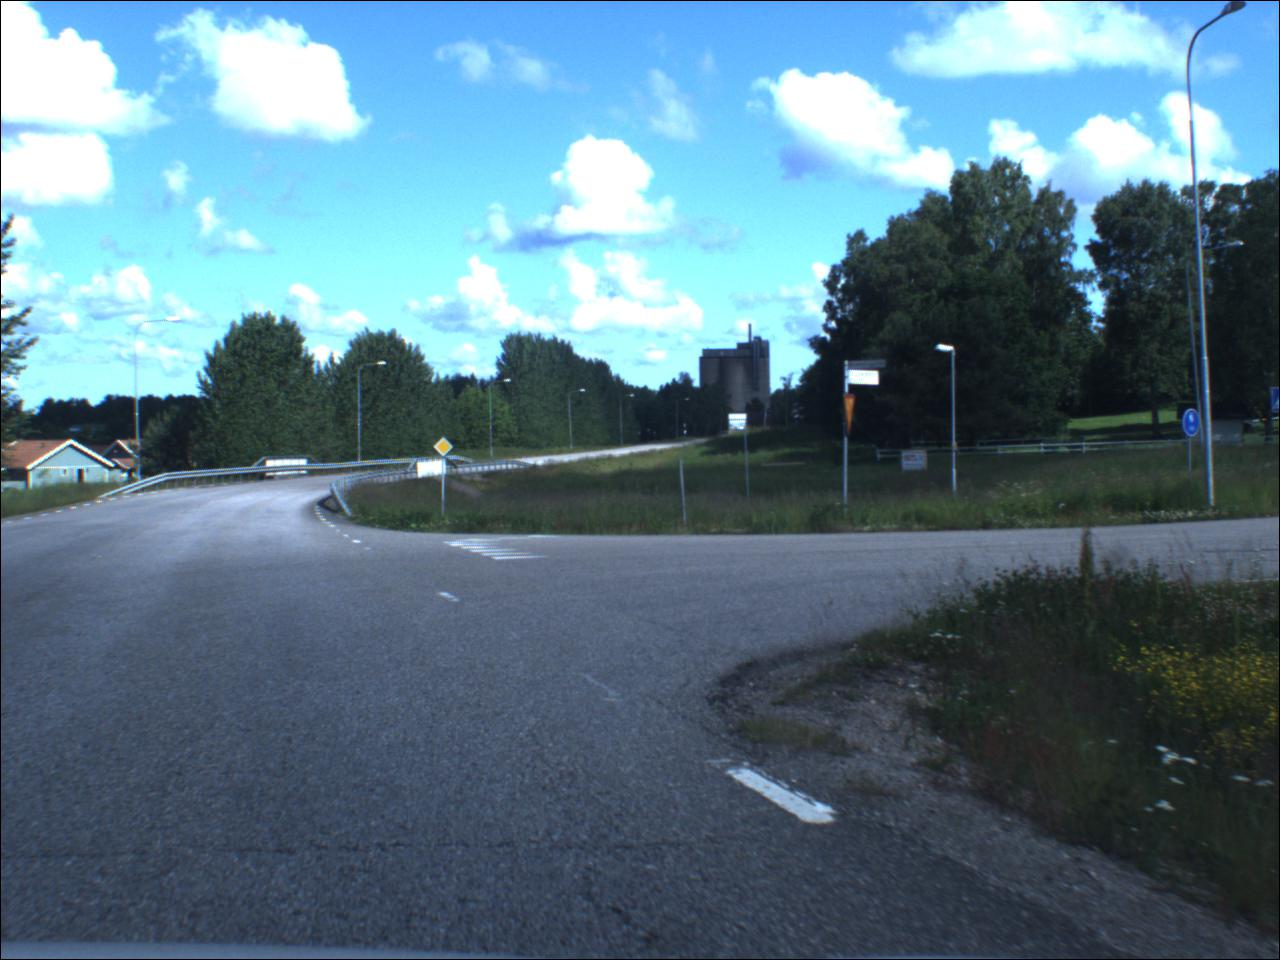PRIORITY_ROAD: (435, 438, 457, 461)
